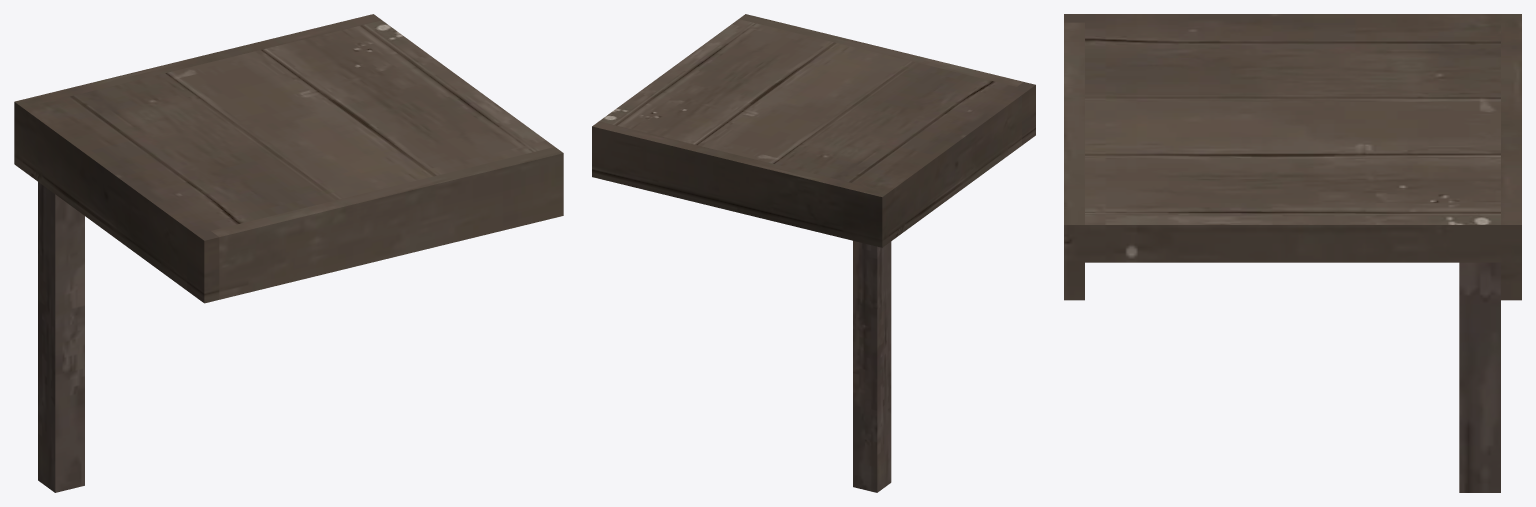
3 renders of one model, left to right at view 1: azimuth 30°, elevation 25°; view 2: azimuth 150°, elevation 25°; view 3: azimuth 270°, elevation 25°, orthographic. The views are drawn at different scales.
Visible parts, largest first — view 1: body0_model0_lod0_mesh2, body0_model0_lod0_mesh0; view 2: body0_model0_lod0_mesh2, body0_model0_lod0_mesh0; view 3: body0_model0_lod0_mesh2, body0_model0_lod0_mesh0.
Part boxes in pixels (x1,y1,x2,y2): body0_model0_lod0_mesh2: (14, 14, 563, 303); body0_model0_lod0_mesh0: (38, 182, 84, 492); body0_model0_lod0_mesh2: (592, 14, 1035, 247); body0_model0_lod0_mesh0: (853, 241, 891, 492); body0_model0_lod0_mesh2: (1064, 14, 1521, 300); body0_model0_lod0_mesh0: (1459, 262, 1500, 492).
Size of the model in its own units: 96 by 96 by 88.
Materials: 3 (3 with a texture image).
